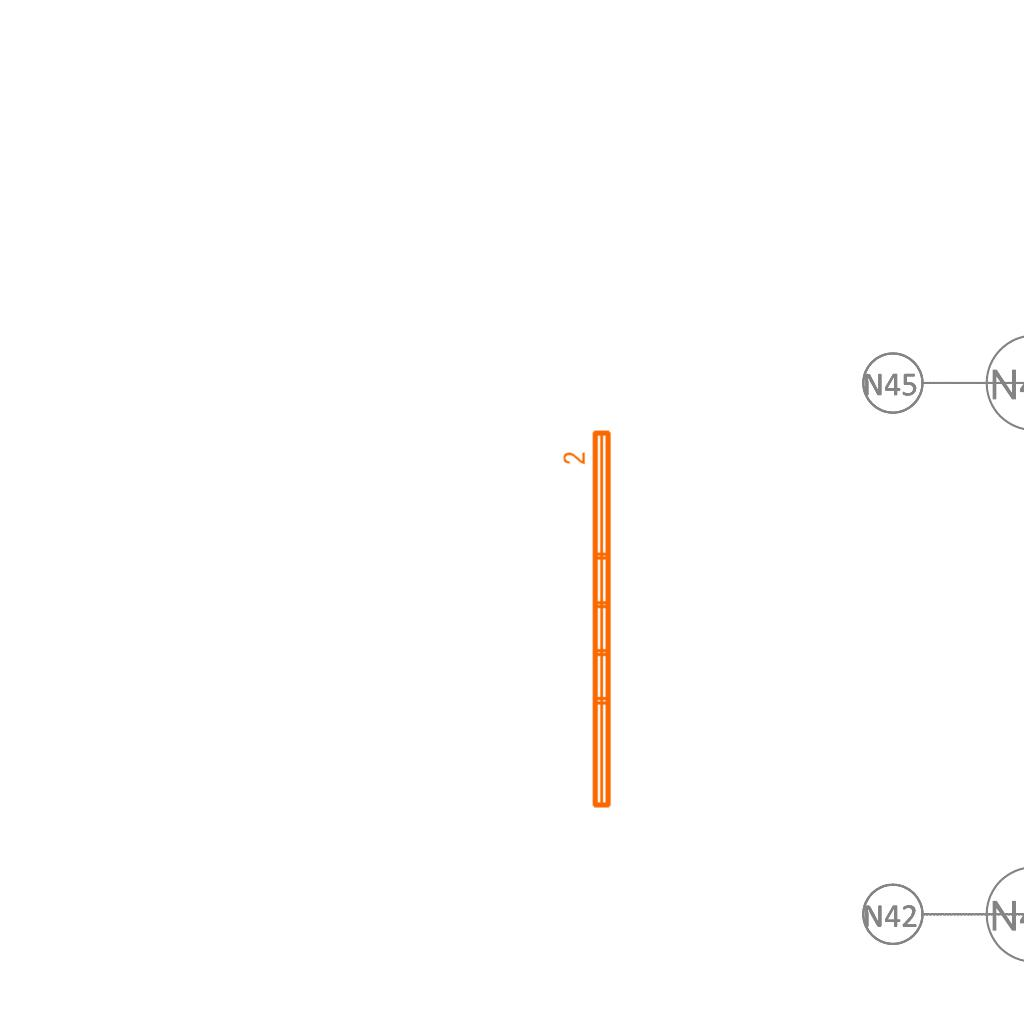Ambulanz_Pendelleuchte_LED: (561, 426, 617, 813)
